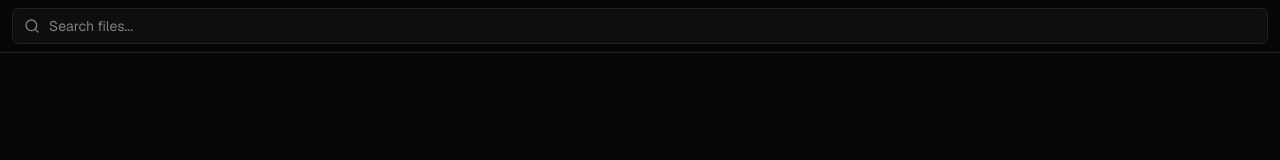
it: FileNameSearch › Search input › should clear input when clear button clicked
This screenshot has width=1280, height=160.
Type "test" into the field with placeholder "Search files...".
click(640, 26); type("test")  # box [12,8,1268,44]
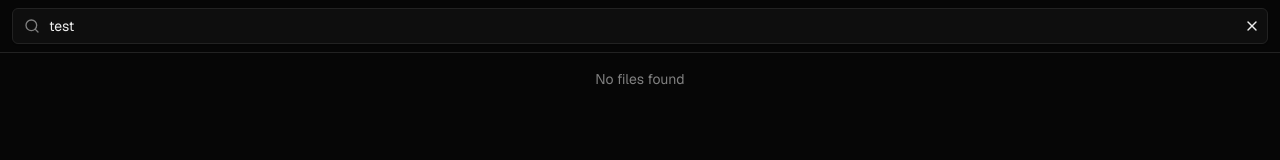
Click the button named "clear".
click(1252, 26)  # box [1240,14,1264,38]
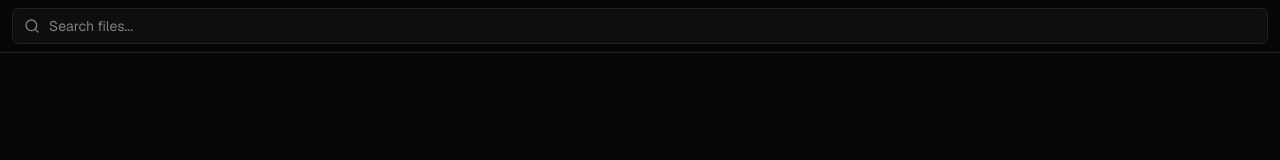
Now the field with placeholder "Search files..." is empty, box [12,8,1268,44]
